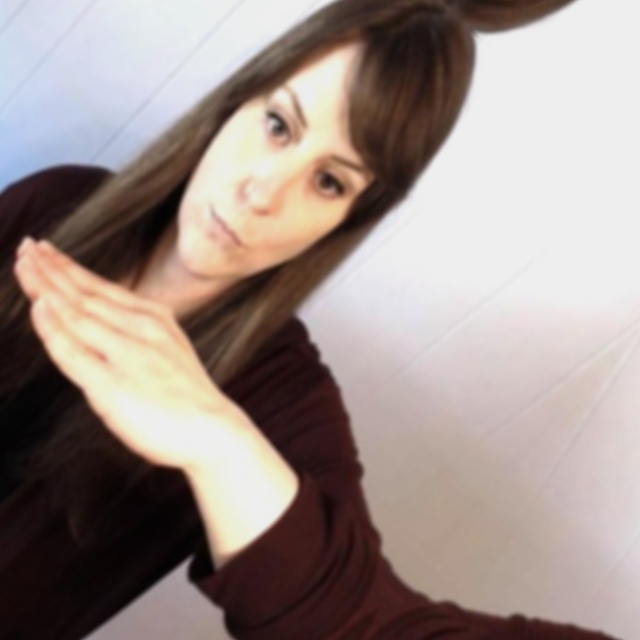Paper: (0, 173, 286, 509)
